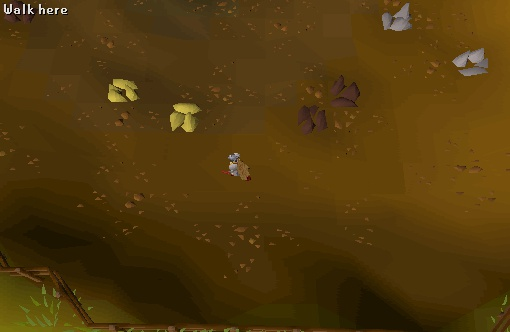gold: (162, 97, 210, 140), (97, 67, 145, 110)
iron: (288, 98, 337, 140), (320, 70, 369, 112)
tin: (447, 42, 497, 84), (372, 1, 422, 42)
